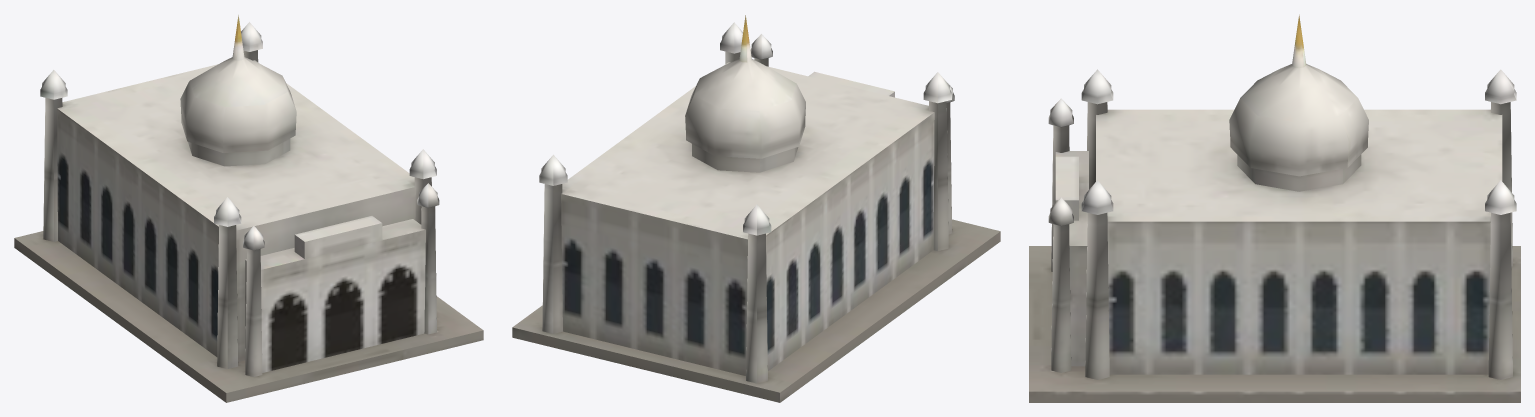
The model's file is jubilee_hall.glb.
3 renders of one model, left to right at view 1: azimuth 30°, elevation 25°; view 2: azimuth 150°, elevation 25°; view 3: azimuth 270°, elevation 25°, orthographic. The views are drawn at different scales.
Parts seen in each view (by area): view 1: jubilee_hall_body; view 2: jubilee_hall_body; view 3: jubilee_hall_body.
Boxes of the visible parts, left/top/right/bottom form: jubilee_hall_body: left=14, top=15, right=483, bottom=402; jubilee_hall_body: left=512, top=15, right=1000, bottom=402; jubilee_hall_body: left=1029, top=14, right=1520, bottom=402.
Bounding box in the file's own units: 34.2 × 34.6 × 48.8.
1 material, 1 textured.
